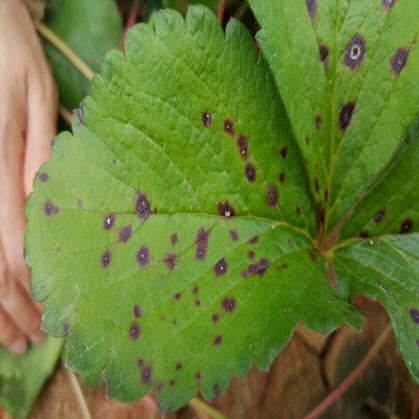Leaf Spot: (23, 2, 364, 418), (246, 0, 418, 239), (326, 118, 418, 388)
